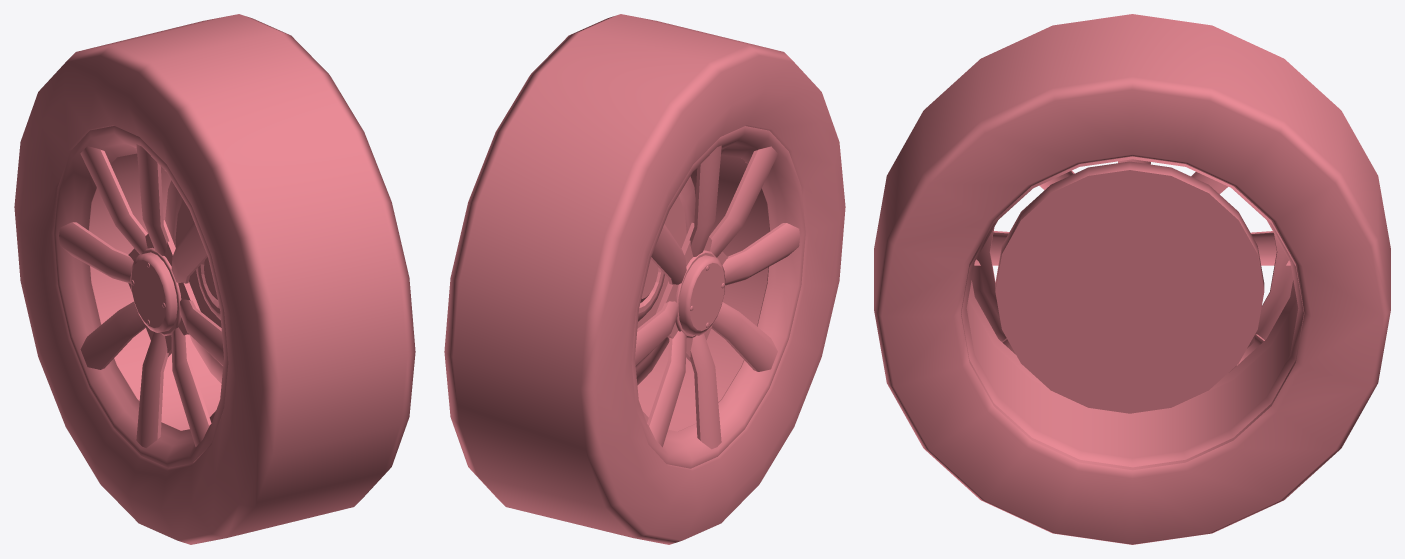
Rendered from PickUp_Wheel_02_Lod0.fbx.
3 views of the same model, side by side, from view 1: azimuth 30°, elevation 25°; view 2: azimuth 150°, elevation 25°; view 3: azimuth 270°, elevation 25° (orthographic).
Visible parts, largest first — view 1: PickUp_Wheel_02_Lod0; view 2: PickUp_Wheel_02_Lod0; view 3: PickUp_Wheel_02_Lod0.
Part boxes in pixels (box(x1,y1,x2,y2)): PickUp_Wheel_02_Lod0: box(14, 14, 415, 544); PickUp_Wheel_02_Lod0: box(444, 14, 845, 544); PickUp_Wheel_02_Lod0: box(874, 14, 1390, 544).
Size of the model in its own units: 35.74 by 97.11 by 97.11.
